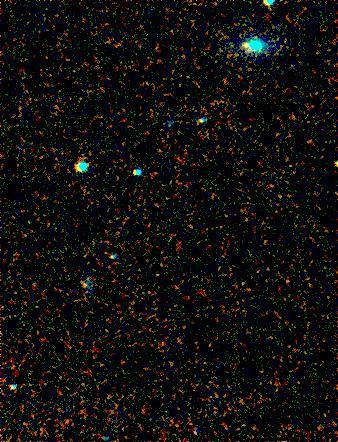star: (233, 32, 263, 62)
